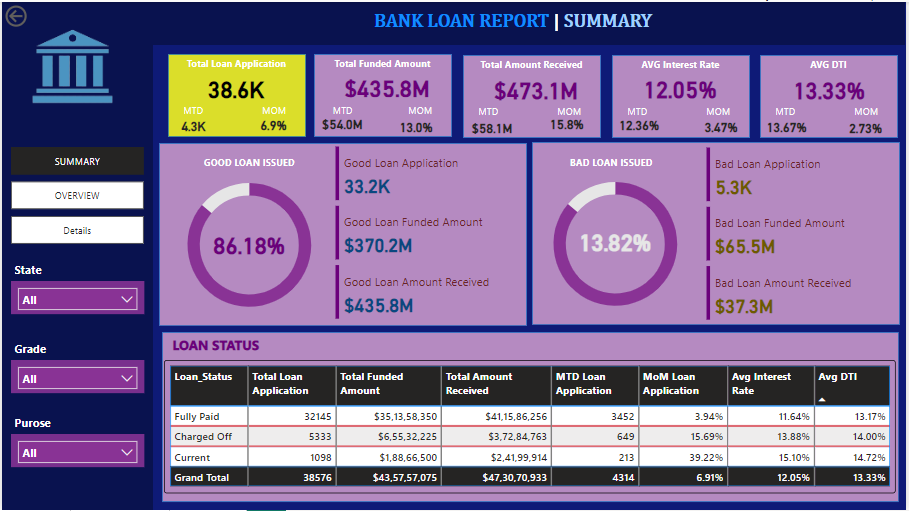

This screenshot's page, from the dashboard's own definition file:
{"tool":"powerbi","page":{"name":"SUMMARY","canvas":[1280,720],"ordinal":0},"visuals":[{"type":"shape","box":[0,0,214,720],"z":0},{"type":"shape","box":[441.9,74.3,195.6,117.6],"z":0,"group":"g2"},{"type":"shape","box":[0,0,1279.8,60.9],"z":1000},{"type":"card","fields":{"Values":["bank_loan_data.Total Funded Amount"]},"box":[470,102.2,153.1,38.3],"z":1000,"group":"g2"},{"type":"textbox","box":[510,7.1,427.1,44.3],"z":2000},{"type":"shape","box":[236.1,74.3,195.6,117.6],"z":2000,"group":"g7"},{"type":"textbox","box":[457.5,74.3,163,31.2],"z":2000,"group":"g2"},{"type":"shape","box":[653.1,75,195.6,117.6],"z":2000,"group":"g4"},{"type":"shape","box":[863.9,75,195.6,117.6],"z":2000,"group":"g5"},{"type":"shape","box":[1074.7,75,195.6,117.6],"z":2000,"group":"g6"},{"type":"group","id":"g1","title":"Group 1","box":[235.7,74.3,195.7,127.1],"z":3000},{"type":"textbox","box":[562.6,140.8,60.5,31.7],"z":3000,"group":"g2"},{"type":"group","id":"g2","title":"Group 2","box":[439.7,74.3,197.8,124.3],"z":4000},{"type":"card","fields":{"Values":["bank_loan_data.Total Amount Received"]},"box":[688.6,102,136.1,42.5],"z":4000,"group":"g4"},{"type":"card","fields":{"Values":["bank_loan_data.Avg Interest Rate"]},"box":[895.4,102,130.4,41.1],"z":4000,"group":"g5"},{"type":"card","fields":{"Values":["bank_loan_data.Avg DTI"]},"box":[1110.7,102,124.7,42.5],"z":4000,"group":"g6"},{"type":"card","fields":{"Values":["bank_loan_data.Total Loan Application"]},"box":[285.3,102.7,93.5,39.7],"z":4000,"group":"g7"},{"type":"group","id":"g3","title":"Group 4","box":[439.7,141,85.7,48.6],"z":4000,"group":"g2"},{"type":"textbox","box":[251.7,74.3,163,31.2],"z":5000,"group":"g7"},{"type":"group","id":"g4","title":"Group 2","box":[653.1,75,195.6,127.6],"z":5000},{"type":"textbox","box":[668.7,75,163,31.2],"z":5000,"group":"g4"},{"type":"textbox","box":[879.5,75,163,31.2],"z":5000,"group":"g5"},{"type":"textbox","box":[1090.3,75,163,31.2],"z":5000,"group":"g6"},{"type":"card","fields":{"Values":["bank_loan_data.MoM Funded Amount"]},"box":[555,157.5,65.2,41.1],"z":5000,"group":"g2"},{"type":"group","id":"g5","title":"Group 2","box":[862.8,75,196.7,127.6],"z":6000},{"type":"card","fields":{"Values":["bank_loan_data.MTD Avg Interest Rate"]},"box":[862.8,148.7,79.4,53.9],"z":6000,"group":"g5"},{"type":"card","fields":{"Values":["bank_loan_data.MTD Loan Application"]},"box":[235.7,152.3,72.1,49],"z":6000,"group":"g7"},{"type":"card","fields":{"Values":["bank_loan_data.MTD Amount Received"]},"box":[658.7,157.2,70.9,45.4],"z":6000,"group":"g4"},{"type":"card","fields":{"Values":["bank_loan_data.MTD Avg DTI"]},"box":[1075.5,157.2,72.3,42.5],"z":6000,"group":"g6"},{"type":"card","fields":{"Values":["bank_loan_data.MTD Funded Amount"]},"box":[439.7,159.6,85.7,30],"z":6000,"group":"g3"},{"type":"group","id":"g6","title":"Group 2","box":[1074.7,75,195.6,124.7],"z":7000},{"type":"textbox","box":[240,140.8,63.4,36],"z":7000,"group":"g7"},{"type":"textbox","box":[451.6,141,64.3,28.6],"z":7000,"group":"g3"},{"type":"textbox","box":[657,141.5,63.4,36],"z":7000,"group":"g4"},{"type":"textbox","box":[867.8,141.5,63.4,36],"z":7000,"group":"g5"},{"type":"textbox","box":[1078.6,141.5,63.4,36],"z":7000,"group":"g6"},{"type":"textbox","box":[356.8,140.8,60.5,31.7],"z":8000,"group":"g7"},{"type":"textbox","box":[773.8,141.5,60.5,31.7],"z":8000,"group":"g4"},{"type":"textbox","box":[984.6,141.5,60.5,31.7],"z":8000,"group":"g5"},{"type":"textbox","box":[1195.4,141.5,60.5,31.7],"z":8000,"group":"g6"},{"type":"shape","box":[222.5,199.8,521.6,259.4],"z":8000},{"type":"group","id":"g7","title":"Group 3","box":[235.7,74.3,196,127],"z":8001,"group":"g8"},{"type":"card","fields":{"Values":["bank_loan_data.MoM Loan Application"]},"box":[356.8,153.8,57.7,44.7],"z":9000,"group":"g7"},{"type":"card","fields":{"Values":["bank_loan_data.MoM Avg Interest Rate"]},"box":[985,157.2,68,42.5],"z":9000,"group":"g5"},{"type":"card","fields":{"Values":["bank_loan_data.MoM Amount Received"]},"box":[766,159.3,67.1,31.4],"z":9000,"group":"g4"},{"type":"card","fields":{"Values":["bank_loan_data.MoM Avg DTI"]},"box":[1195.6,160.1,58.1,38.3],"z":9000,"group":"g6"},{"type":"shape","box":[751.2,198.4,521.6,259.4],"z":9000},{"type":"group","id":"g8","title":"Group 2","box":[235.7,74.3,196,127],"z":9003,"group":"g1"},{"type":"actionButton","box":[0,0,100,40],"z":10000},{"type":"donutChart","fields":{"Category":["bank_loan_data.Good VS Bad Loan"],"Y":["bank_loan_data.Total Loan Application"]},"box":[224.8,229.3,250.3,229.3],"z":11000},{"type":"card","fields":{"Values":["bank_loan_data.Good Loan %"]},"box":[260.8,323.1,178.6,39.7],"z":12000},{"type":"textbox","box":[263.6,214,174.3,28.3],"z":13000},{"type":"cardVisual","fields":{"Data":["bank_loan_data.Good Loan Application","bank_loan_data.Good Loan Funded Amount","bank_loan_data.Good Loan Amount Received"]},"box":[467.6,199.3,275.8,254.8],"z":14000},{"type":"donutChart","fields":{"Category":["bank_loan_data.Good VS Bad Loan"],"Y":["bank_loan_data.Total Loan Application"]},"box":[743.4,227.8,250.3,229.3],"z":15000},{"type":"card","fields":{"Values":["bank_loan_data.Bad Loan %"]},"box":[779.4,319.3,178.4,40.5],"z":16000},{"type":"textbox","box":[776.4,214.3,173.9,28.5],"z":17000},{"type":"cardVisual","fields":{"Data":["bank_loan_data.Bad Loan Application","bank_loan_data.Bad Loan Funded Amount","bank_loan_data.Bad Loan Amount Received"]},"box":[993.7,200.8,275.8,254.8],"z":18000},{"type":"shape","box":[226.2,467.2,1044.3,241],"z":19000},{"type":"tableEx","fields":{"Values":["bank_loan_data.loan_status","bank_loan_data.Total Loan Application","bank_loan_data.Total Funded Amount","bank_loan_data.Total Amount Received","bank_loan_data.MTD Loan Application","bank_loan_data.MoM Loan Application","bank_loan_data.Avg Interest Rate","bank_loan_data.Avg DTI"]},"box":[230,507.1,1037.1,188.6],"z":20000},{"type":"textbox","box":[231.4,467.1,144.3,40],"z":21000},{"type":"slicer","fields":{"Values":["bank_loan_data.purpose"]},"box":[12.9,612.9,188.6,47.1],"z":22000},{"type":"slicer","fields":{"Values":["bank_loan_data.grade"]},"box":[12.9,507.1,188.6,47.1],"z":23000},{"type":"slicer","fields":{"Values":["bank_loan_data.address_state"]},"box":[12.9,395.7,188.6,47.1],"z":24000},{"type":"textbox","box":[12.9,362.9,60,32.9],"z":25000},{"type":"textbox","box":[12.9,474.3,72.9,32.9],"z":26000},{"type":"textbox","box":[12.9,580,107.1,32.9],"z":27000},{"type":"pageNavigator","box":[12.8,205.5,188.5,138.9],"z":28000},{"type":"image","box":[0,17,199.8,148.8],"z":29000}]}

Visuals, with their boxes in screenshot pixels (x1, y1, x2, y2), scaled from the page's 1280x720 canvas onto the 909x511 screenshot:
shape: rect(0, 0, 152, 510)
shape: rect(314, 53, 453, 136)
shape: rect(0, 0, 908, 43)
card - bank_loan_data.Total Funded Amount: rect(334, 73, 442, 100)
textbox: rect(362, 5, 665, 36)
shape: rect(168, 53, 307, 136)
textbox: rect(325, 53, 441, 75)
shape: rect(464, 53, 603, 137)
shape: rect(614, 53, 752, 137)
shape: rect(763, 53, 902, 137)
"Group 1" group: rect(167, 53, 306, 143)
textbox: rect(400, 100, 442, 122)
"Group 2" group: rect(312, 53, 453, 141)
card - bank_loan_data.Total Amount Received: rect(489, 72, 586, 103)
card - bank_loan_data.Avg Interest Rate: rect(636, 72, 728, 102)
card - bank_loan_data.Avg DTI: rect(789, 72, 877, 103)
card - bank_loan_data.Total Loan Application: rect(203, 73, 269, 101)
"Group 4" group: rect(312, 100, 373, 135)
textbox: rect(179, 53, 295, 75)
"Group 2" group: rect(464, 53, 603, 144)
textbox: rect(475, 53, 591, 75)
textbox: rect(625, 53, 740, 75)
textbox: rect(774, 53, 890, 75)
card - bank_loan_data.MoM Funded Amount: rect(394, 112, 440, 141)
"Group 2" group: rect(613, 53, 752, 144)
card - bank_loan_data.MTD Avg Interest Rate: rect(613, 106, 669, 144)
card - bank_loan_data.MTD Loan Application: rect(167, 108, 219, 143)
card - bank_loan_data.MTD Amount Received: rect(468, 112, 518, 144)
card - bank_loan_data.MTD Avg DTI: rect(764, 112, 815, 142)
card - bank_loan_data.MTD Funded Amount: rect(312, 113, 373, 135)
"Group 2" group: rect(763, 53, 902, 142)
textbox: rect(170, 100, 215, 125)
textbox: rect(321, 100, 366, 120)
textbox: rect(467, 100, 512, 126)
textbox: rect(616, 100, 661, 126)
textbox: rect(766, 100, 811, 126)
textbox: rect(253, 100, 296, 122)
textbox: rect(550, 100, 592, 123)
textbox: rect(699, 100, 742, 123)
textbox: rect(849, 100, 892, 123)
shape: rect(158, 142, 528, 326)
"Group 3" group: rect(167, 53, 307, 143)
card - bank_loan_data.MoM Loan Application: rect(253, 109, 294, 141)
card - bank_loan_data.MoM Avg Interest Rate: rect(700, 112, 748, 142)
card - bank_loan_data.MoM Amount Received: rect(544, 113, 592, 135)
card - bank_loan_data.MoM Avg DTI: rect(849, 114, 890, 141)
shape: rect(533, 141, 904, 325)
"Group 2" group: rect(167, 53, 307, 143)
actionButton: rect(0, 0, 71, 28)
donutChart - bank_loan_data.Good VS Bad Loan x bank_loan_data.Total Loan Application: rect(160, 163, 337, 325)
card - bank_loan_data.Good Loan %: rect(185, 229, 312, 257)
textbox: rect(187, 152, 311, 172)
cardVisual - bank_loan_data.Good Loan Application x bank_loan_data.Good Loan Funded Amount: rect(332, 141, 528, 322)
donutChart - bank_loan_data.Good VS Bad Loan x bank_loan_data.Total Loan Application: rect(528, 162, 706, 324)
card - bank_loan_data.Bad Loan %: rect(553, 227, 680, 255)
textbox: rect(551, 152, 675, 172)
cardVisual - bank_loan_data.Bad Loan Application x bank_loan_data.Bad Loan Funded Amount: rect(706, 143, 902, 323)
shape: rect(161, 332, 902, 503)
tableEx - bank_loan_data.loan_status x bank_loan_data.Total Loan Application: rect(163, 360, 900, 494)
textbox: rect(164, 332, 267, 360)
slicer - bank_loan_data.purpose: rect(9, 435, 143, 468)
slicer - bank_loan_data.grade: rect(9, 360, 143, 393)
slicer - bank_loan_data.address_state: rect(9, 281, 143, 314)
textbox: rect(9, 258, 52, 281)
textbox: rect(9, 337, 61, 360)
textbox: rect(9, 412, 85, 435)
pageNavigator: rect(9, 146, 143, 244)
image: rect(0, 12, 142, 118)
